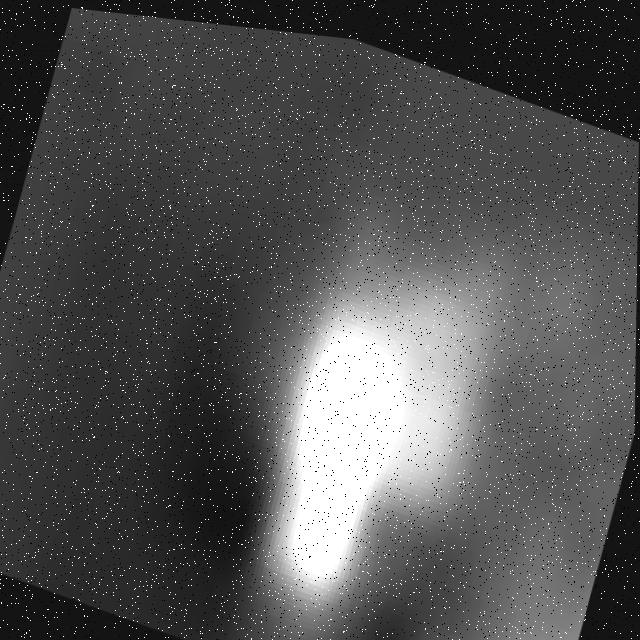person: (174, 133, 547, 640)
